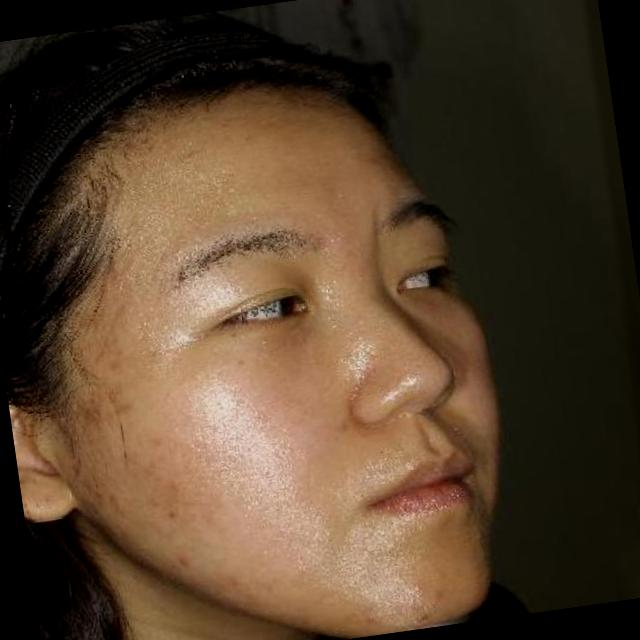blackhead: (159, 506, 186, 526)
